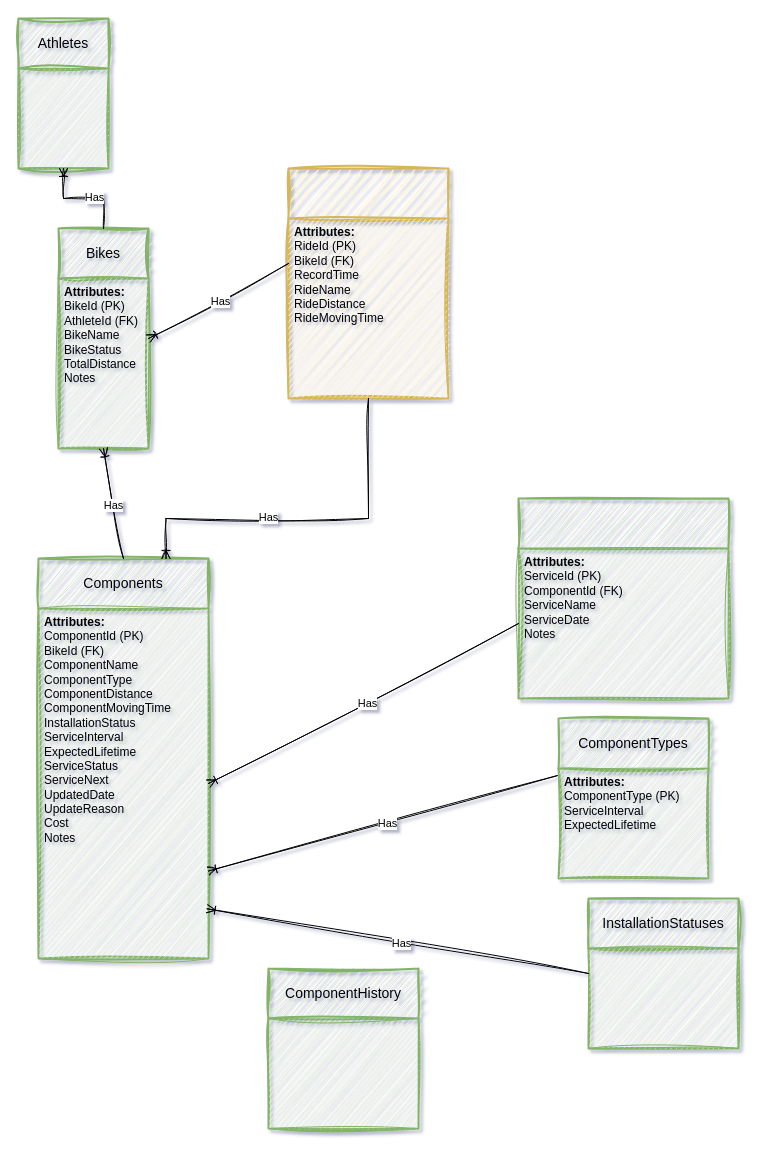
Some shapes in this 762 by 1152 pixel diagram are drawn without their labels. The box of each missing label's shape, as (x1, y1, x2, y2) in pixels:
Attributes: AthleteId (PK) AthleteName: (18, 68, 108, 168)
Attributes: ComponentId (PK) UpdatedDate UpdateReason: (268, 1018, 418, 1128)
Attributes: Statustype (PK): (588, 948, 738, 1048)
Rides: (287, 167, 449, 399)
Services: (517, 497, 729, 699)
